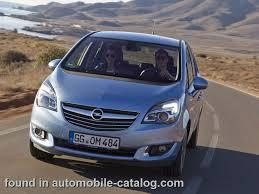opel: (88, 106, 104, 121)
